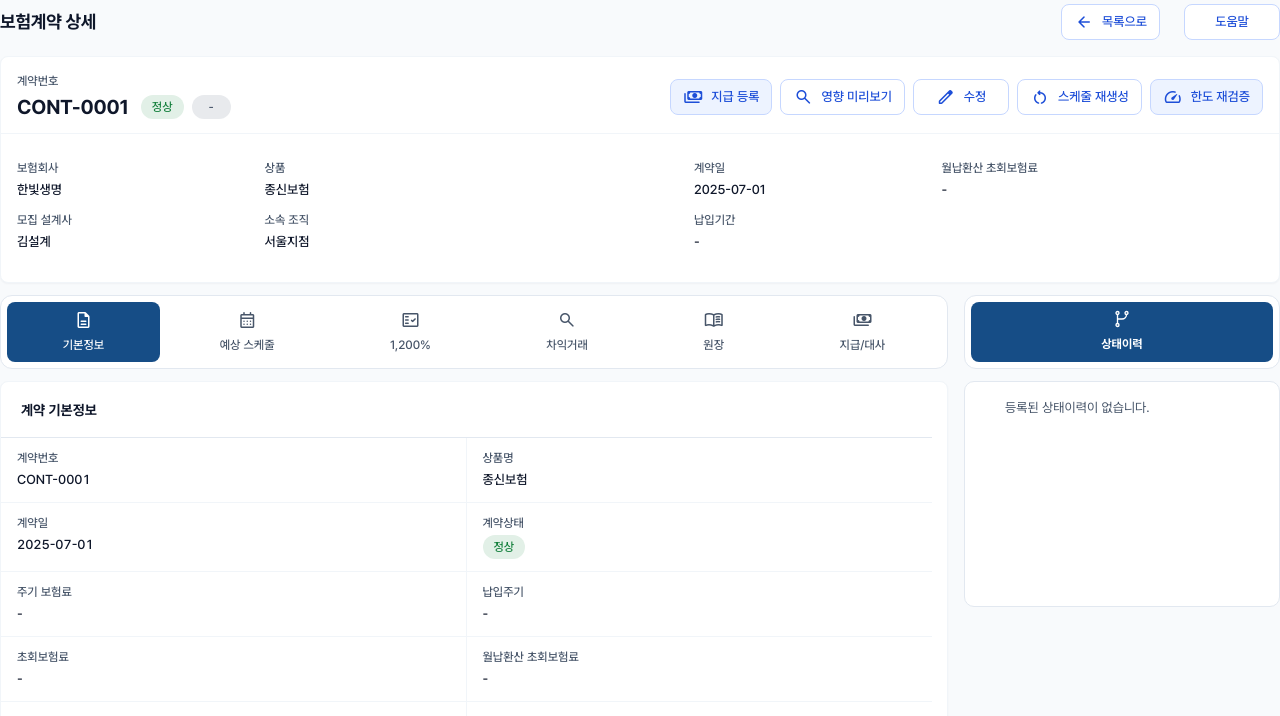
Scenario: CONT-W02 상태 변경 영향 미리보기 › 입력을 서울 시각 오프셋으로 보내고 전후 회차, 보류, 기지급, 환수 근거, 스냅샷 시각을 보인다. 쓰기 API 는 부르지 않는다
The image size is (1280, 716).
Click the button "영향 미리보기": (843, 97) [780,79,905,115]
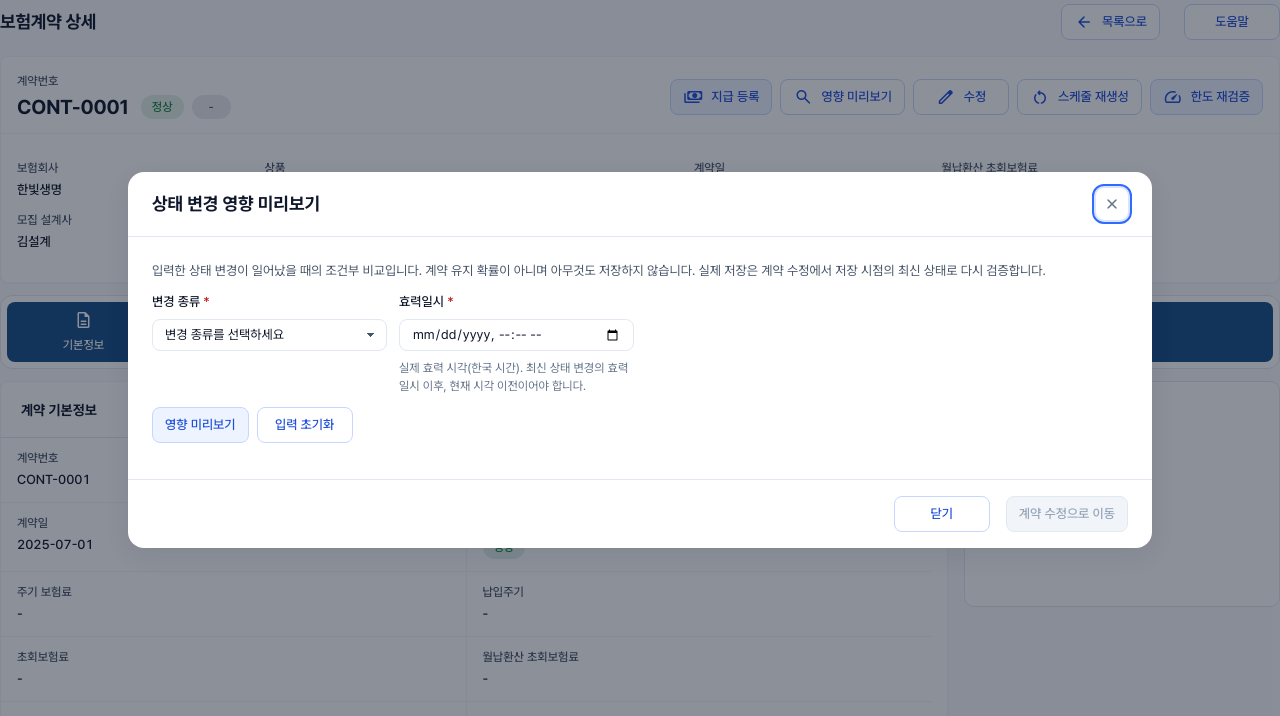
Select "해지" in the dropdown labelled "변경 종류 *": (270, 335) [152,319,387,351]
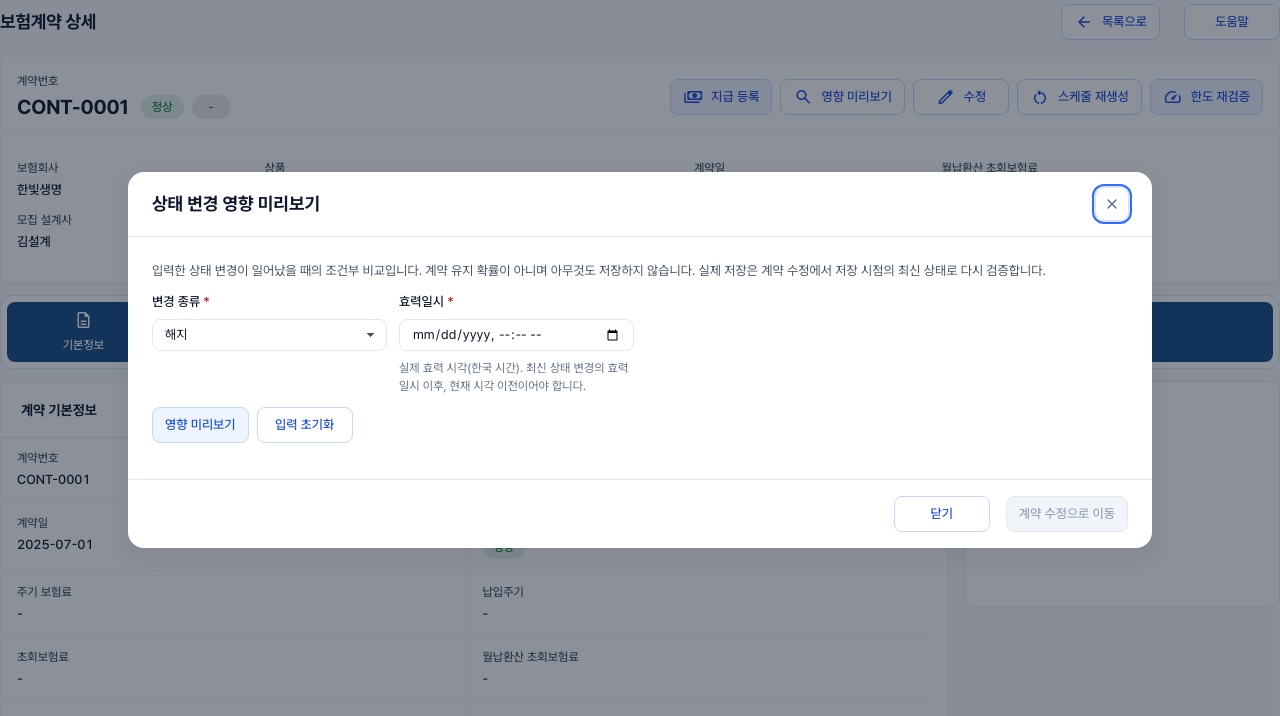
In the field labelled "효력일시 *": (516, 335) [399,319,634,351], type "2026-01-15T09:00"
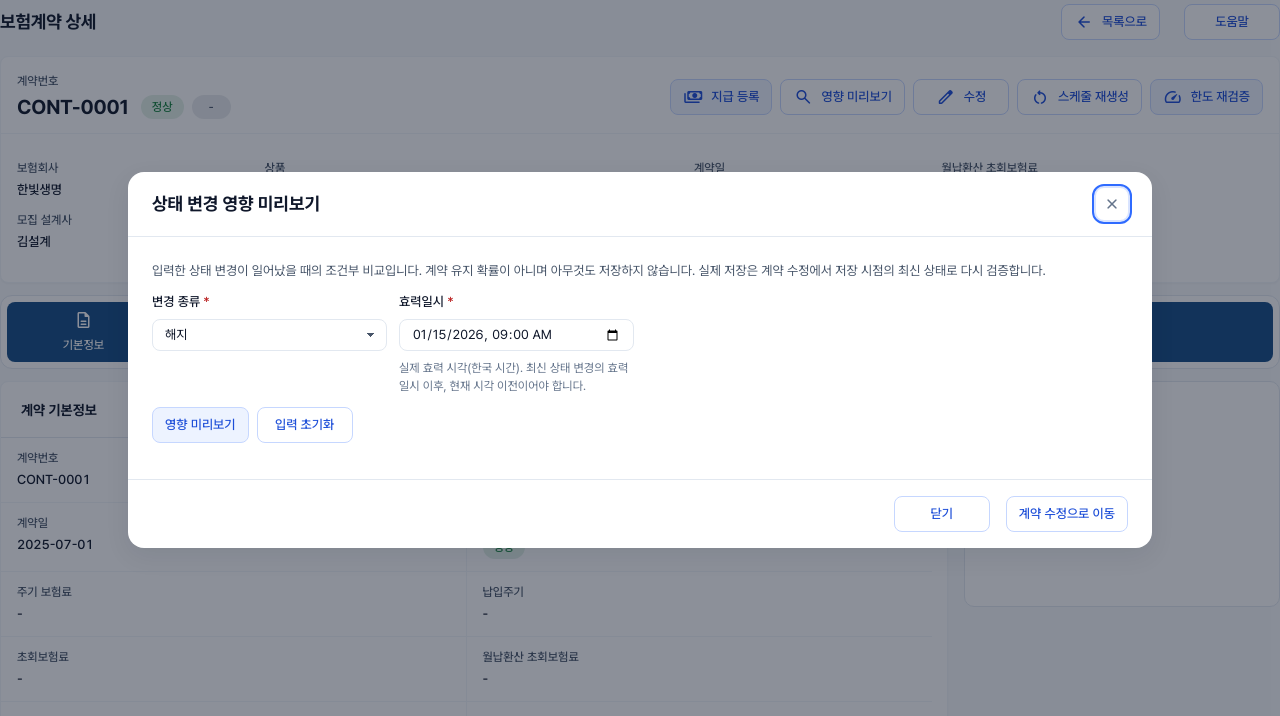
Click the button "영향 미리보기": (200, 425) [152,407,249,443]
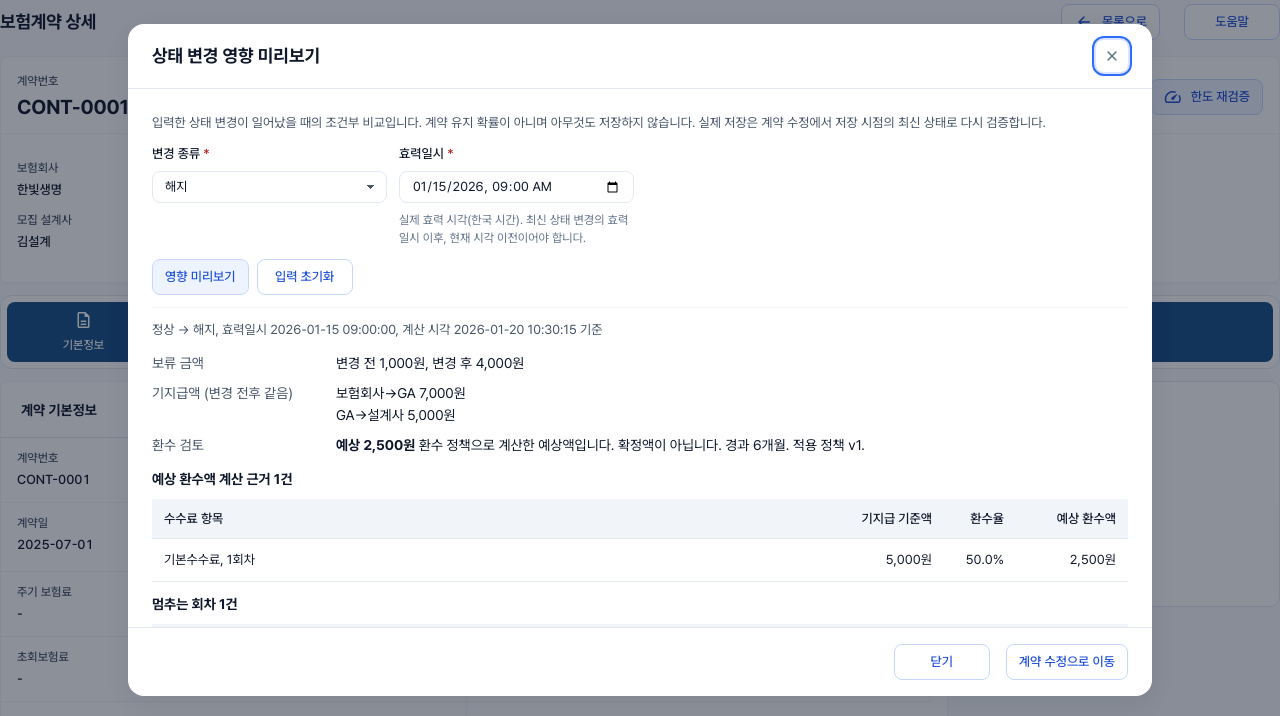
Expected: the text "변경 전 1,000원, 변경 후 4,000원" is shown, [336,355,524,371]
Expected: the text "보험회사→GA 7,000원" is shown, [336,385,466,401]
Expected: the text "GA→설계사 5,000원" is shown, [336,407,456,423]
